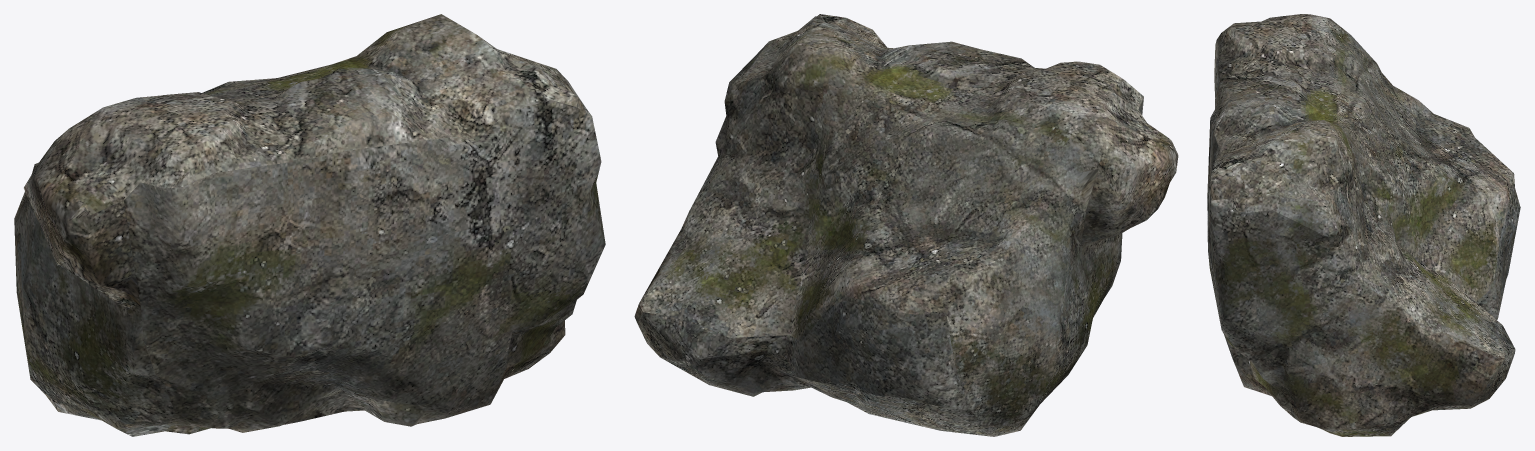
File: Rock05.FBX
3 views of the same model, side by side, from view 1: azimuth 30°, elevation 25°; view 2: azimuth 150°, elevation 25°; view 3: azimuth 270°, elevation 25° (orthographic). The views are drawn at different scales.
Visible parts, largest first — view 1: LV_TurtleLake_Rock_LakeRock02_SM_EYE; view 2: LV_TurtleLake_Rock_LakeRock02_SM_EYE; view 3: LV_TurtleLake_Rock_LakeRock02_SM_EYE.
Part boxes in pixels (<box>): LV_TurtleLake_Rock_LakeRock02_SM_EYE: <box>14,14,605,436</box>; LV_TurtleLake_Rock_LakeRock02_SM_EYE: <box>634,14,1178,436</box>; LV_TurtleLake_Rock_LakeRock02_SM_EYE: <box>1207,14,1520,436</box>.
Size of the model in its own units: 103 by 69.25 by 70.73.
